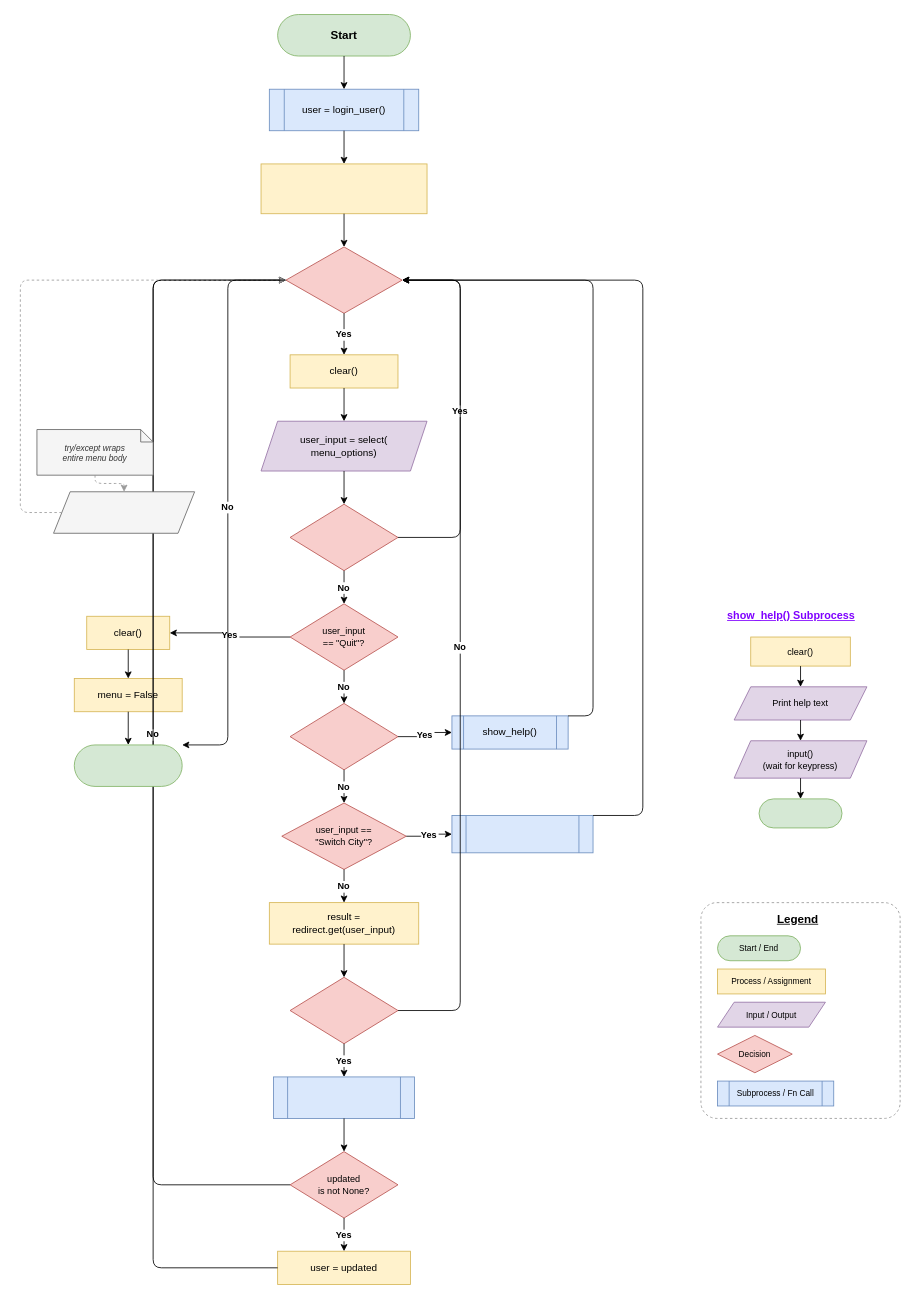
The diagram is 915 pixels wide and 1299 high, and some of its shapes have lost their labels. Here are the shapes that lost their labels. From the top down, the centre of each, then its label:
[343,188]: menu_options = [...] menu = True redirect = {...}
[343,279]: menu == True?
[124,512]: KeyboardInterrupt caught
[343,537]: user_input == "BACK"?
[343,736]: user_input == "Help"?
[127,765]: End
[800,813]: Return
[522,834]: user.city = switch_city(user.id)
[343,1010]: result is not None?
[344,1097]: updated = result(user.id)
